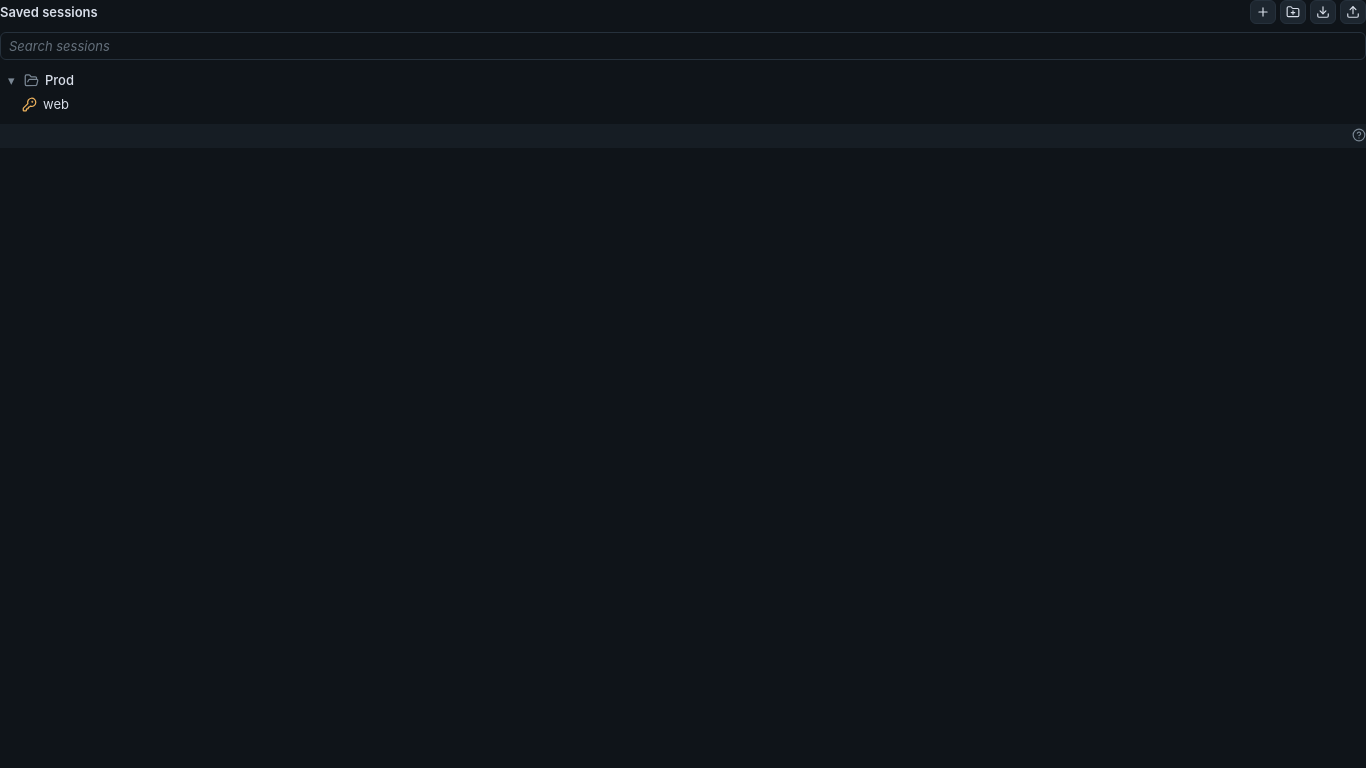
SessionsPanel › imports new sessions from a sessions .ini file after the preview
Click the button named "Import sessions".
click(1323, 12)  # box [1310,0,1336,24]
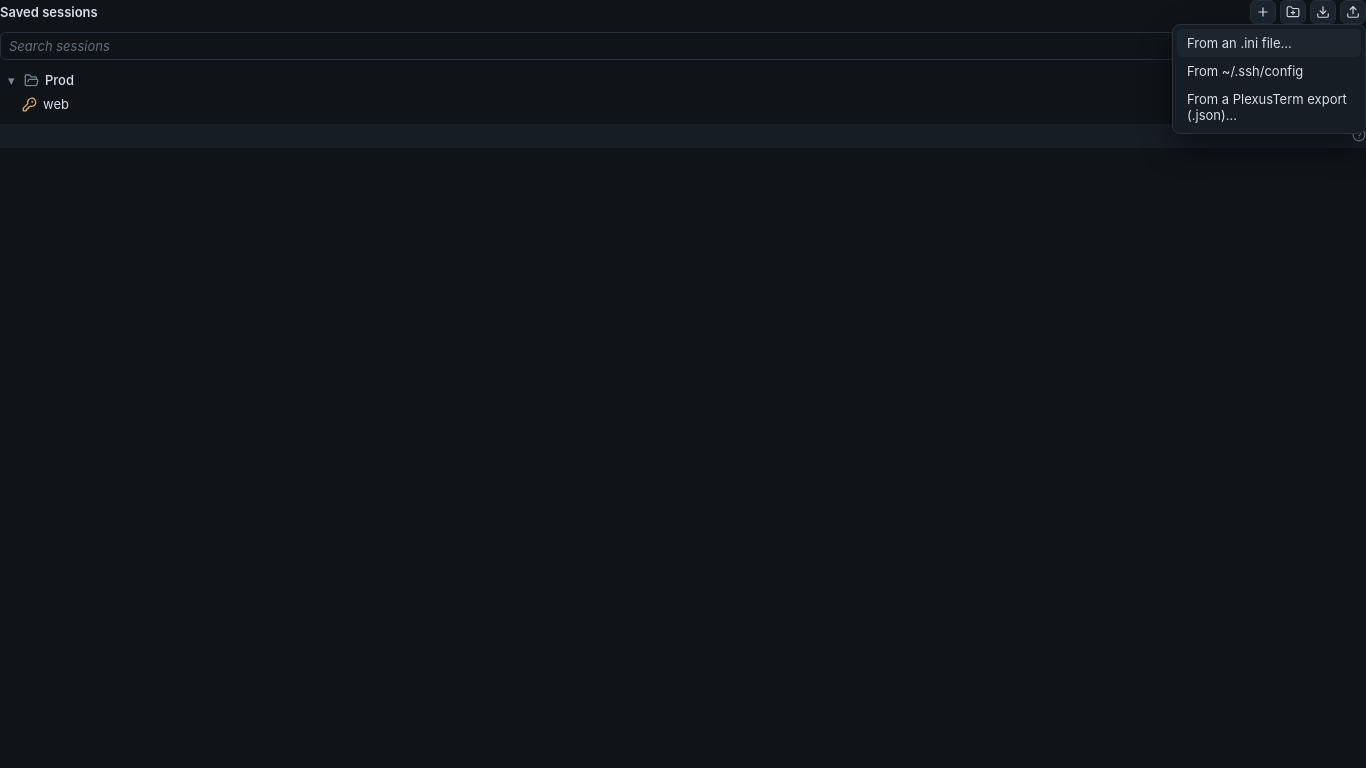
Click the menu item "From an .ini file…".
click(1269, 43)  # box [1177,29,1361,57]
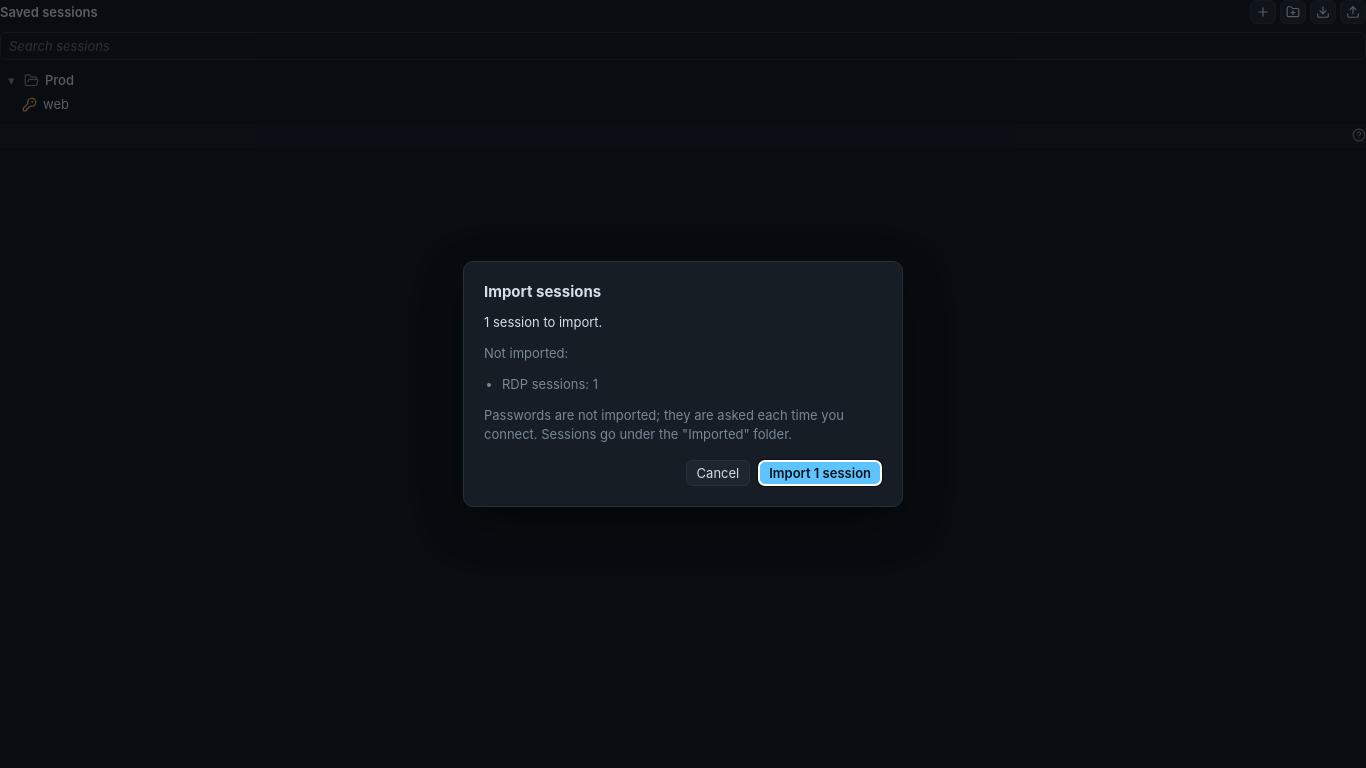
Now the text "1 session to import." is shown, box [484,314,602,330]
Click the button "Import 1 session".
click(820, 473)  # box [758,460,882,486]
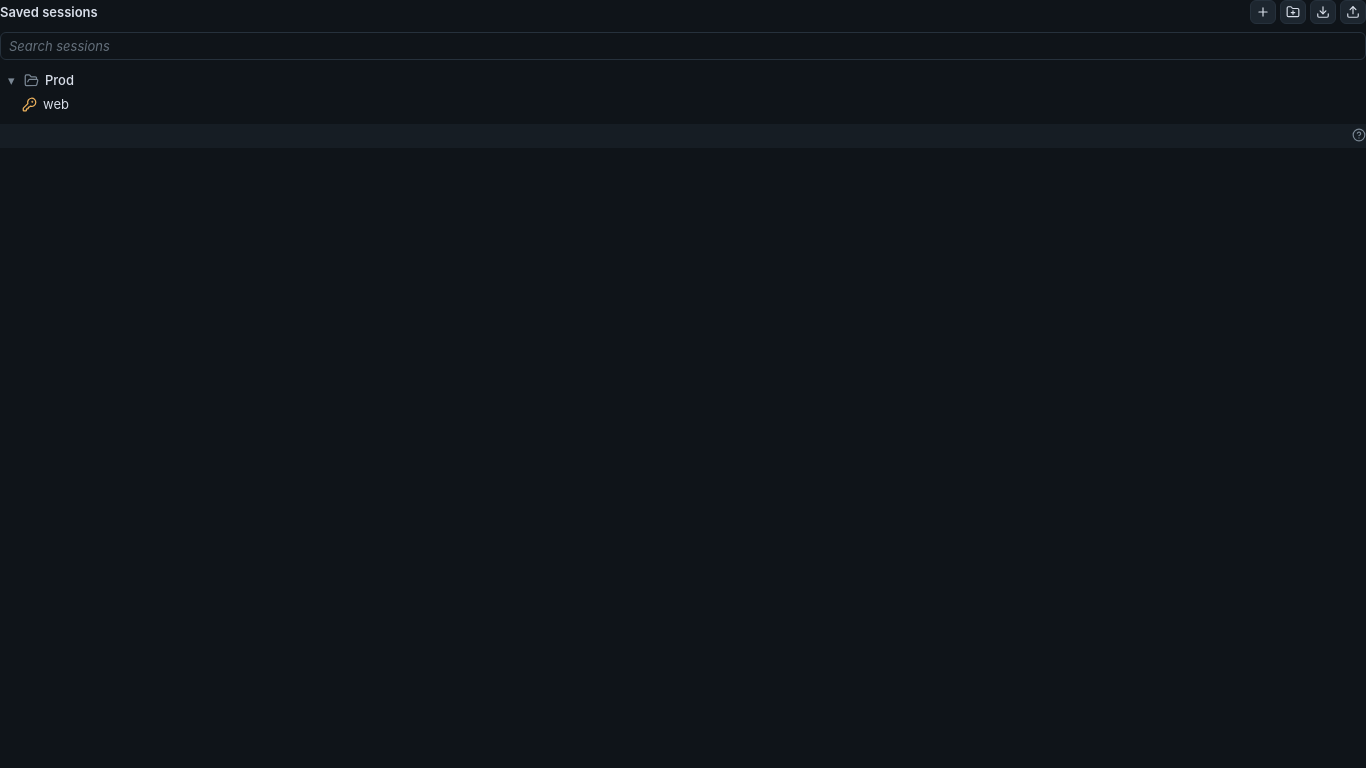
Now the button "Import 1 session" is gone
